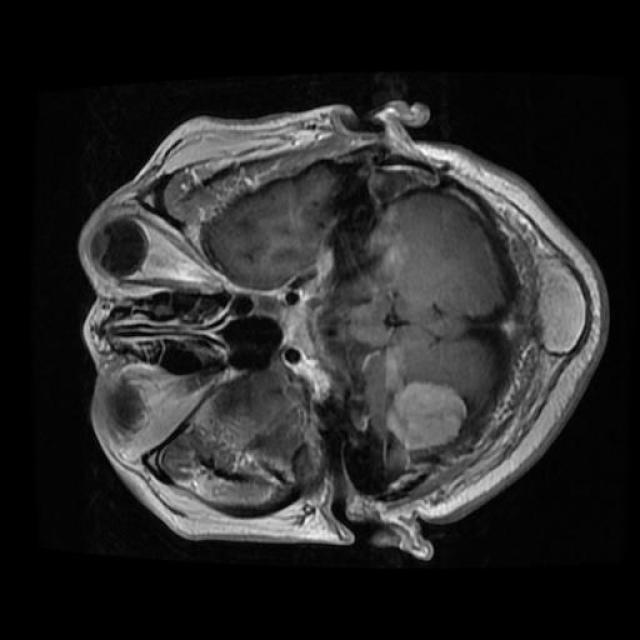Meningioma: (387, 382, 467, 449)
